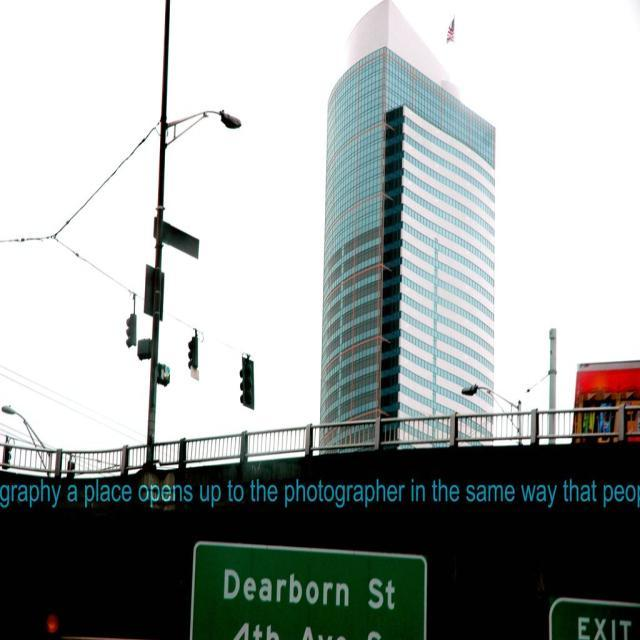off traffic light: (239, 358, 254, 409), (125, 314, 138, 347), (186, 336, 199, 367)
